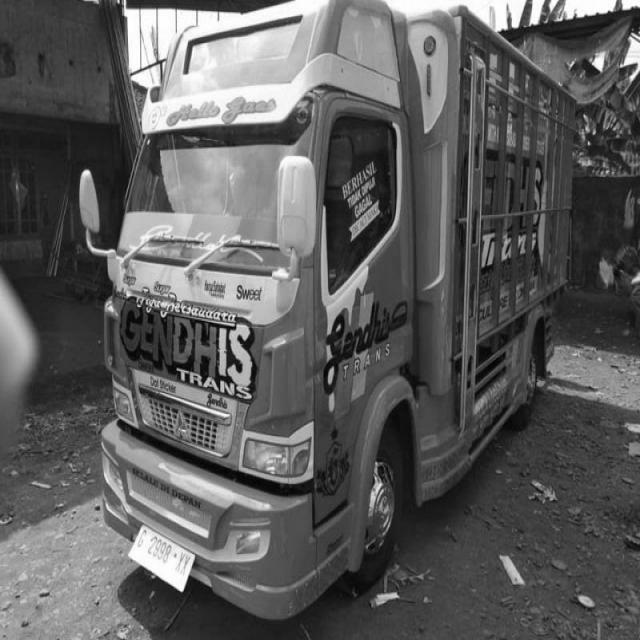truck: (71, 1, 447, 629)
